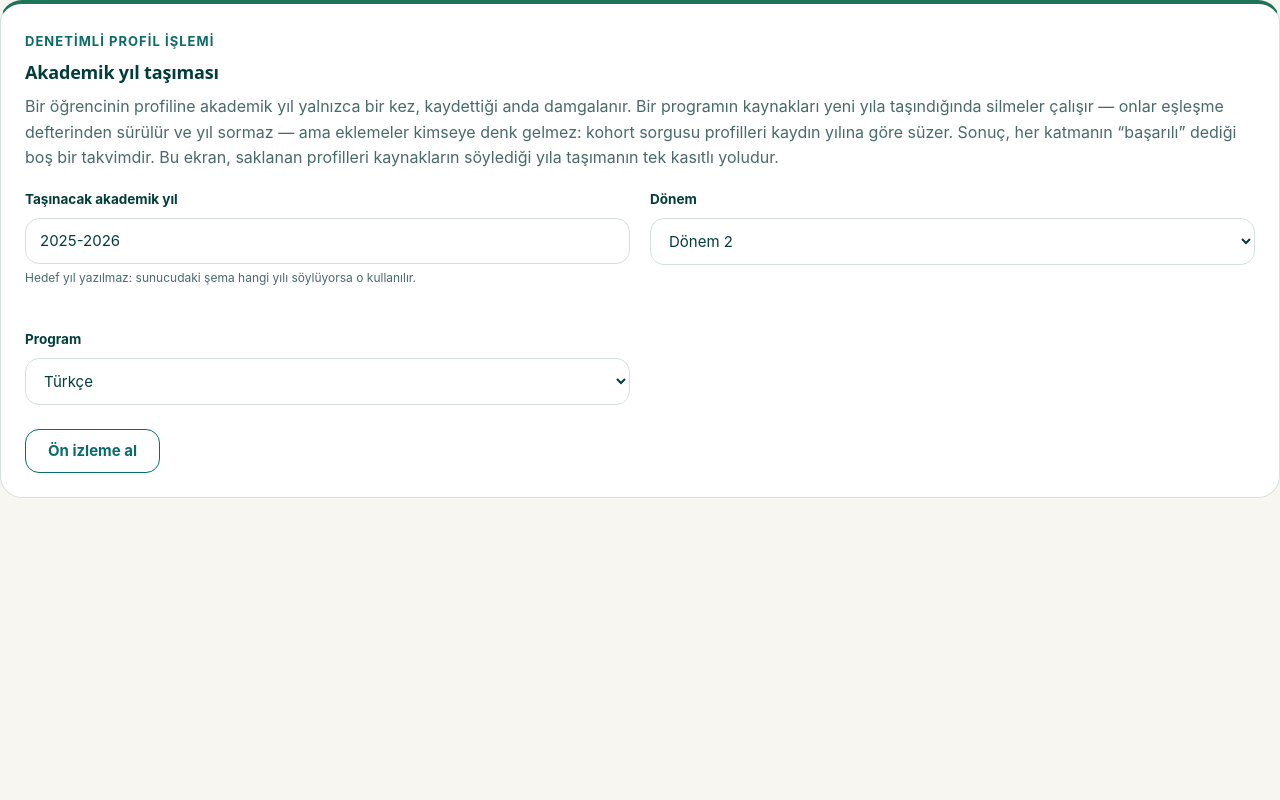
Test case: ProfileRolloverControl › refuses to offer a confirmation when the deployed schema states no new year
Click the button "Ön izleme al" at (93, 451), box [25,429,160,473]
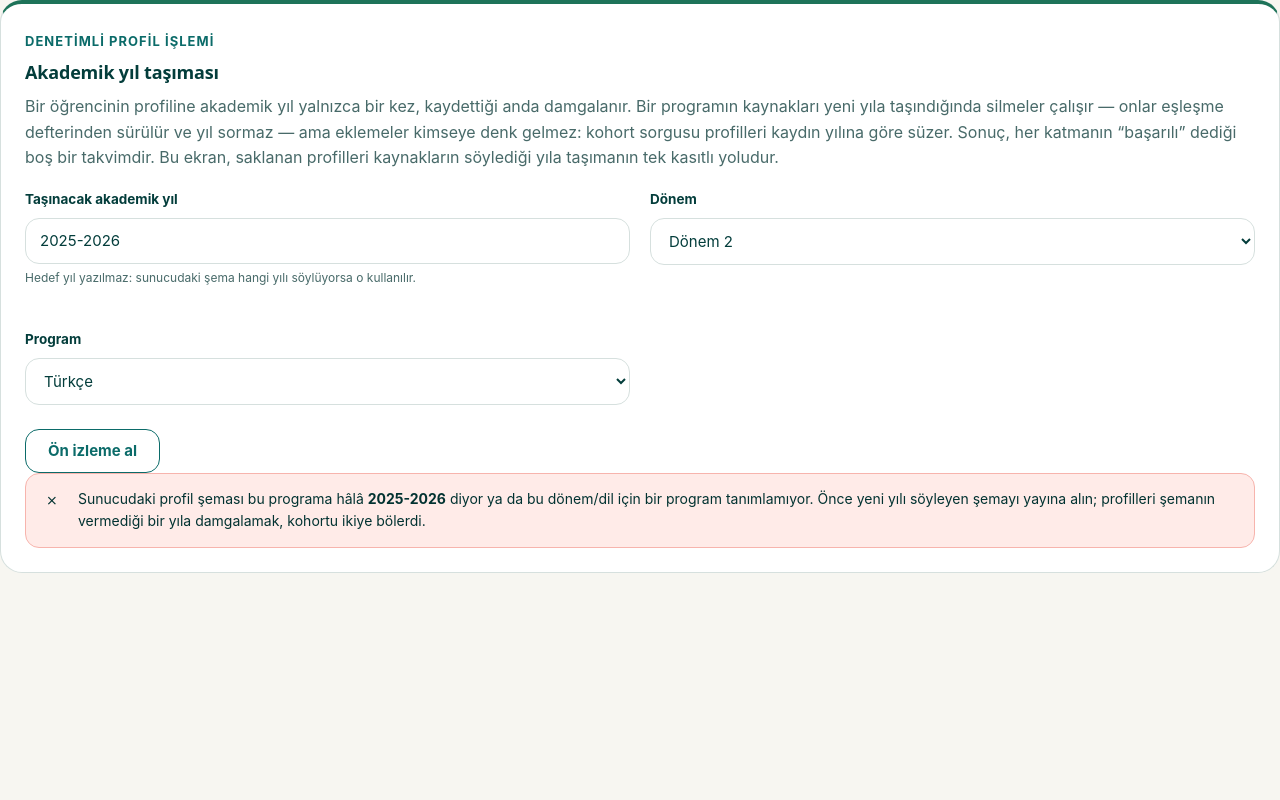
expect the text "şemayı yayına alın" is shown: met, box [78,490,1215,529]
